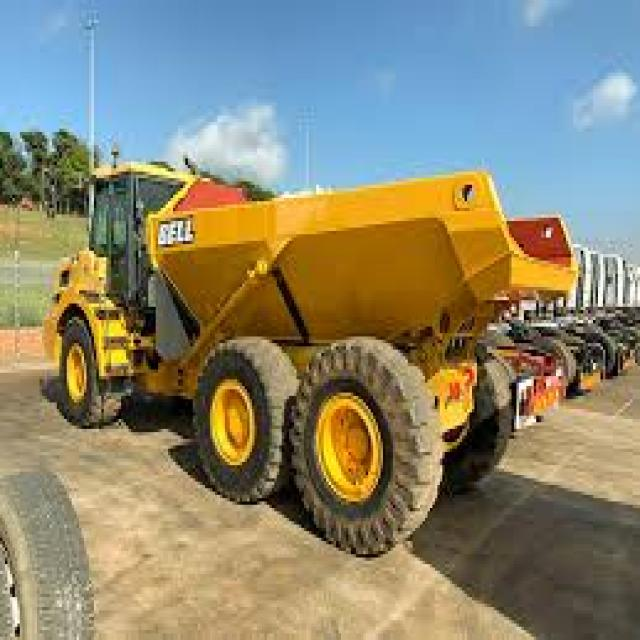dump_truck: (22, 132, 610, 584)
